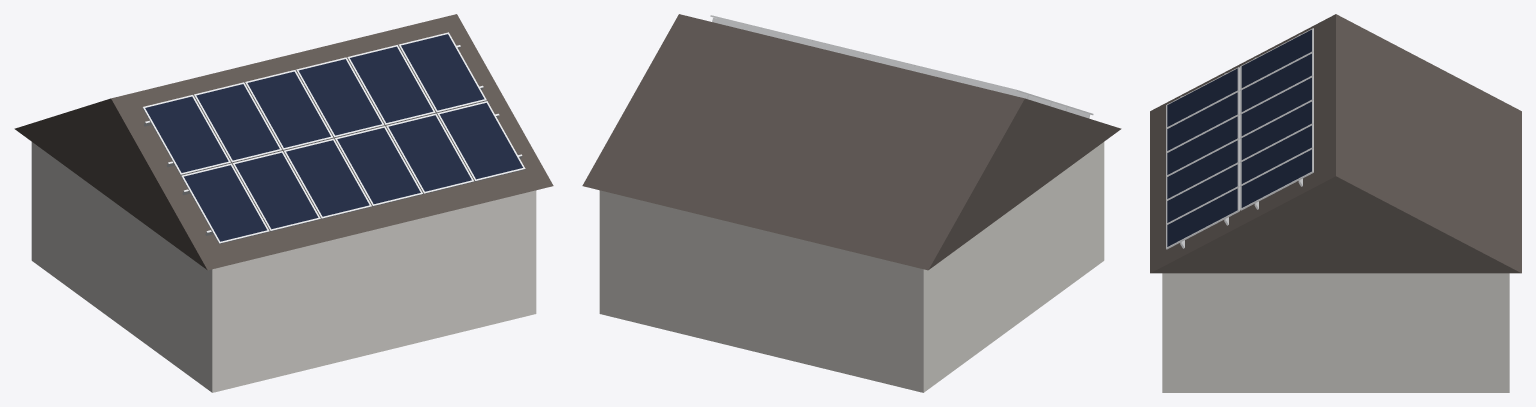
3 renders of one model, left to right at view 1: azimuth 30°, elevation 25°; view 2: azimuth 150°, elevation 25°; view 3: azimuth 270°, elevation 25°, orthographic. The views are drawn at different scales.
Parts seen in each view (by area): view 1: wall.1, roof.1, cell.5, cell.12, cell.2, cell.3, cell.8, cell.9, cell.1, cell.6, cell.10, cell.11 (+14 smaller); view 2: roof.1, wall.1, metal.4; view 3: roof.1, wall.1, cell.10, cell.11, cell.8, cell.9, cell.12, cell.4, cell.7, cell.1, cell.2, cell.3 (+13 smaller).
Boxes of the visible parts, bbox=[...] form: wall.1: bbox=[31, 142, 536, 392]; roof.1: bbox=[14, 14, 553, 270]; cell.5: bbox=[388, 115, 471, 191]; cell.12: bbox=[401, 34, 484, 110]; cell.2: bbox=[235, 152, 318, 229]; cell.3: bbox=[286, 140, 369, 216]; cell.8: bbox=[196, 84, 279, 160]; cell.9: bbox=[247, 71, 330, 147]; cell.1: bbox=[184, 165, 266, 241]; cell.6: bbox=[439, 103, 522, 179]; cell.10: bbox=[298, 59, 381, 135]; cell.11: bbox=[350, 46, 433, 122]; roof.1: bbox=[582, 14, 1121, 270]; wall.1: bbox=[599, 142, 1104, 392]; metal.4: bbox=[712, 18, 1028, 98]; roof.1: bbox=[1150, 14, 1521, 273]; wall.1: bbox=[1162, 273, 1509, 392]; cell.10: bbox=[1241, 101, 1311, 159]; cell.11: bbox=[1241, 125, 1311, 183]; cell.8: bbox=[1241, 53, 1311, 111]; cell.9: bbox=[1241, 77, 1311, 135]; cell.12: bbox=[1241, 149, 1311, 207]; cell.4: bbox=[1167, 140, 1237, 198]; cell.7: bbox=[1241, 29, 1311, 87]; cell.1: bbox=[1167, 68, 1237, 126]; cell.2: bbox=[1167, 92, 1237, 150]; cell.3: bbox=[1167, 116, 1237, 174].
Bounding box in the file's own units: 7.8 × 4.98 × 7.56.
